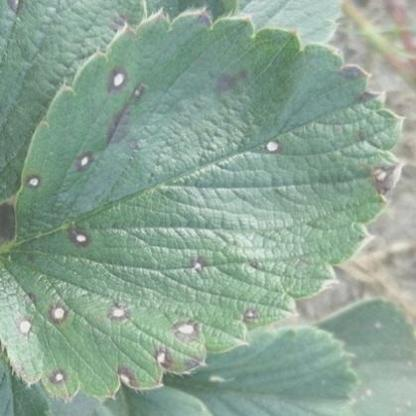Strawberry_Leaf_Spot: (0, 7, 408, 402), (312, 294, 415, 415)
